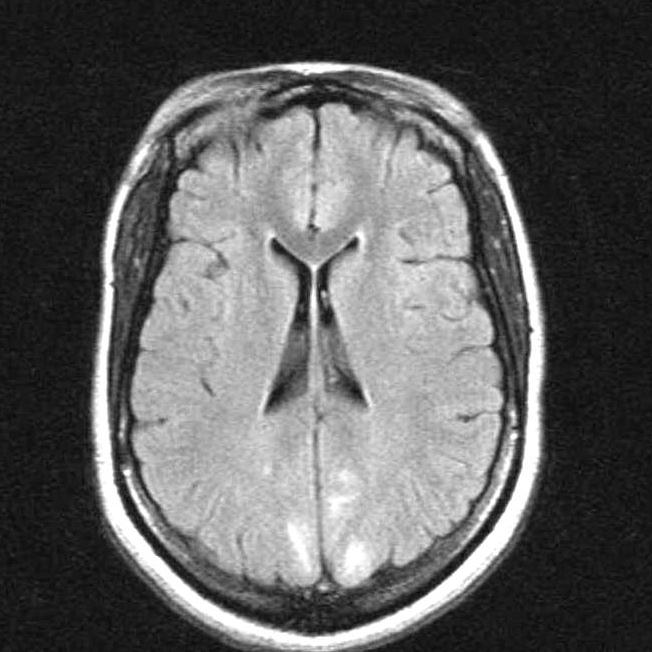Normal_Brain: (70, 1, 602, 584)
